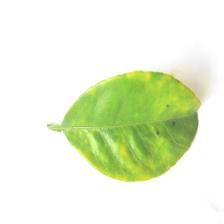greening: (94, 72, 187, 178)
